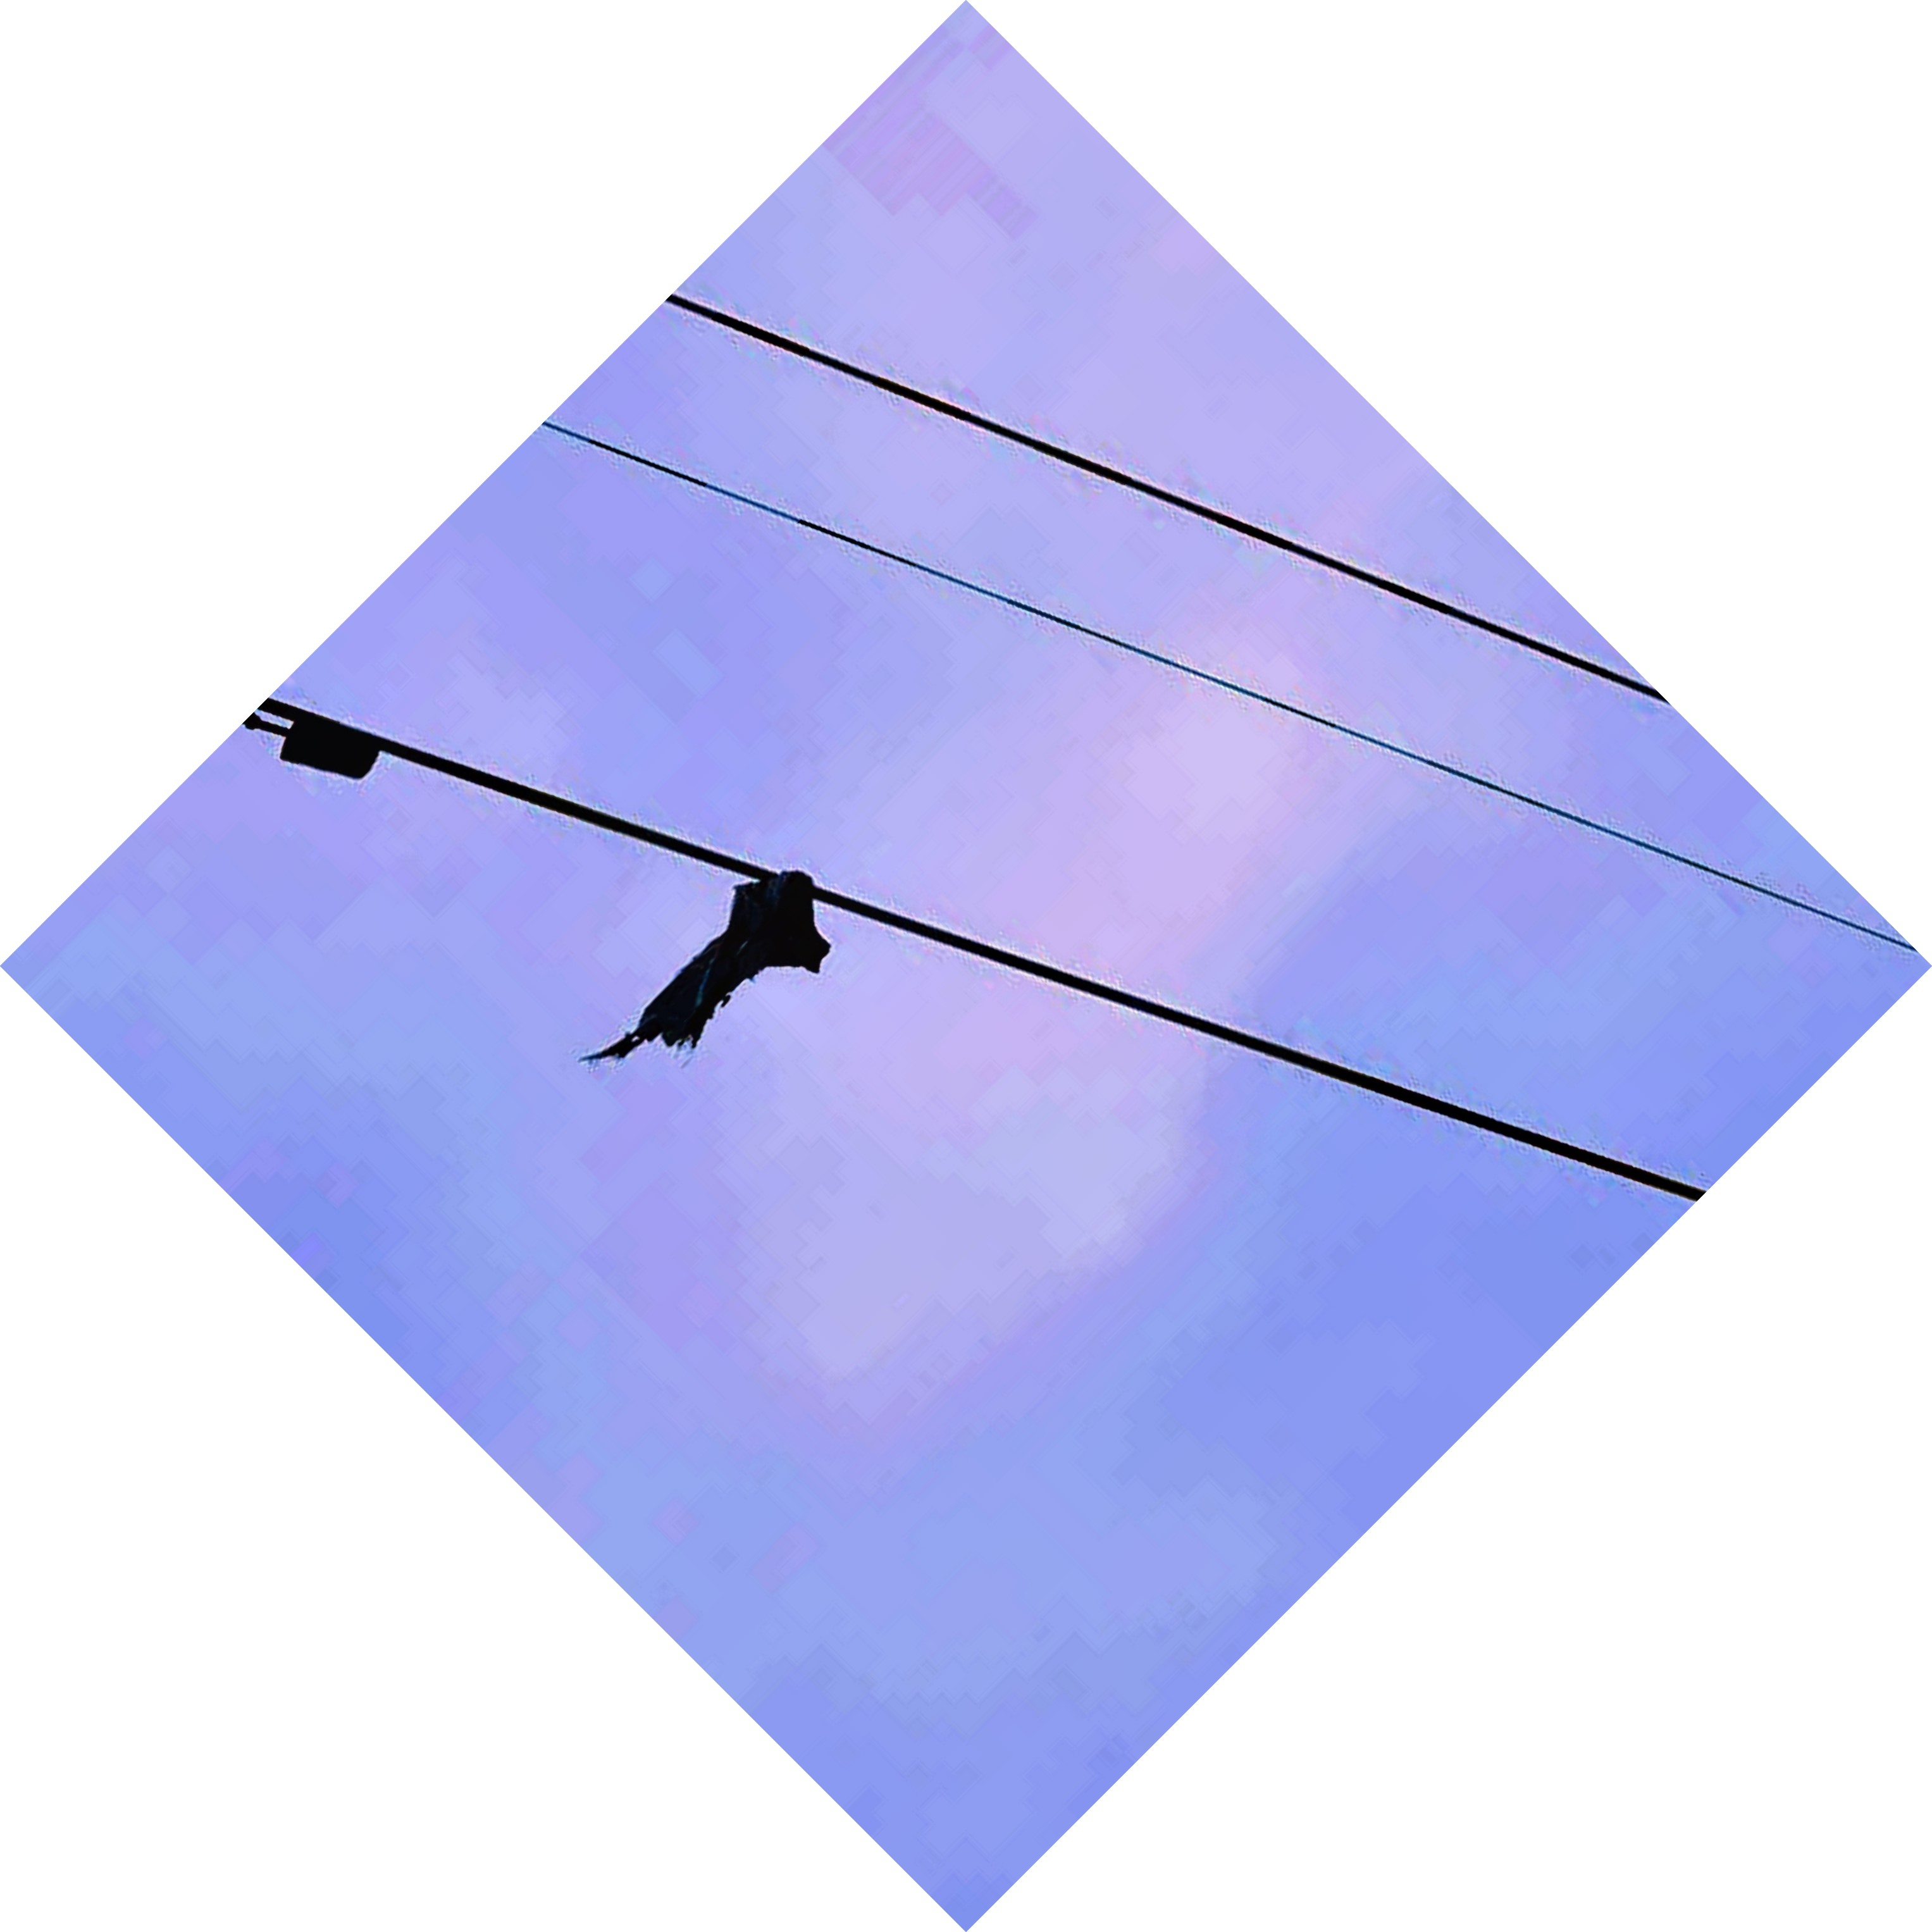wire foreign body: (587, 819, 883, 1088)
